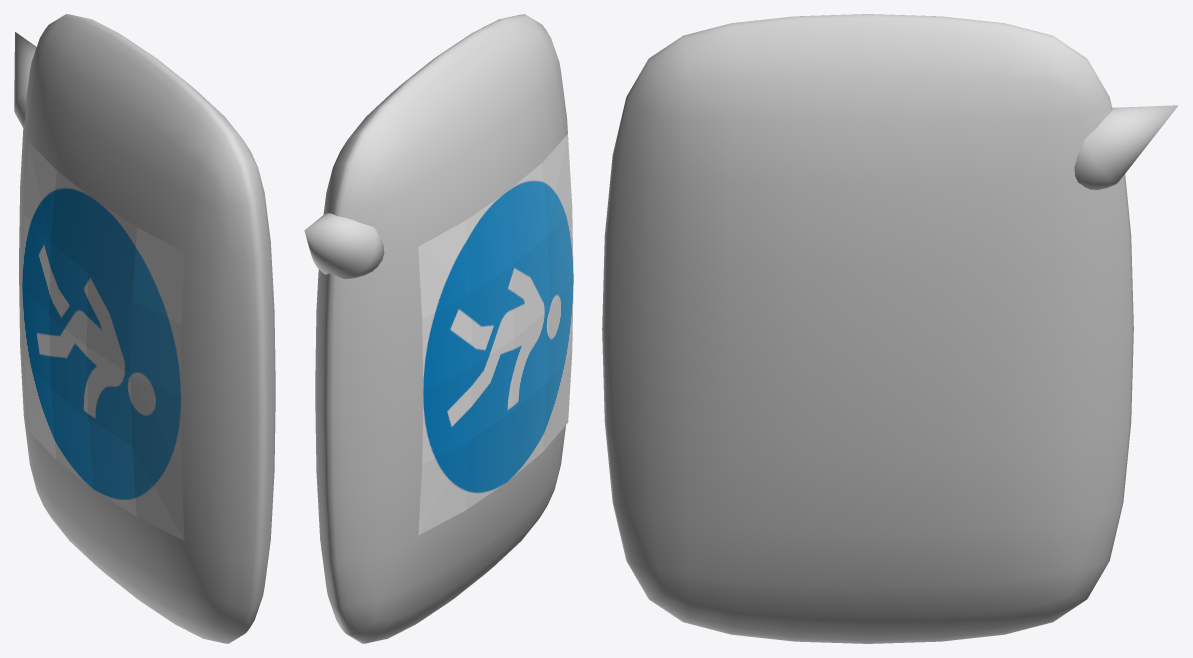
File: bubble.obj
3 views of the same model, side by side, from view 1: azimuth 30°, elevation 25°; view 2: azimuth 150°, elevation 25°; view 3: azimuth 270°, elevation 25° (orthographic). The views are drawn at different scales.
Visible parts, largest first — view 1: bubbleSpeech, pedestrian; view 2: bubbleSpeech, pedestrian; view 3: bubbleSpeech.
Boxes of the visible parts, x1,y1,x2,y2 form: bubbleSpeech: (14, 14, 275, 643); pedestrian: (22, 141, 184, 540); bubbleSpeech: (304, 14, 568, 643); pedestrian: (418, 134, 573, 535); bubbleSpeech: (602, 14, 1178, 643).
Bounding box in the file's own units: 0.6165 × 2.54 × 2.11.
2 materials, 1 textured.
